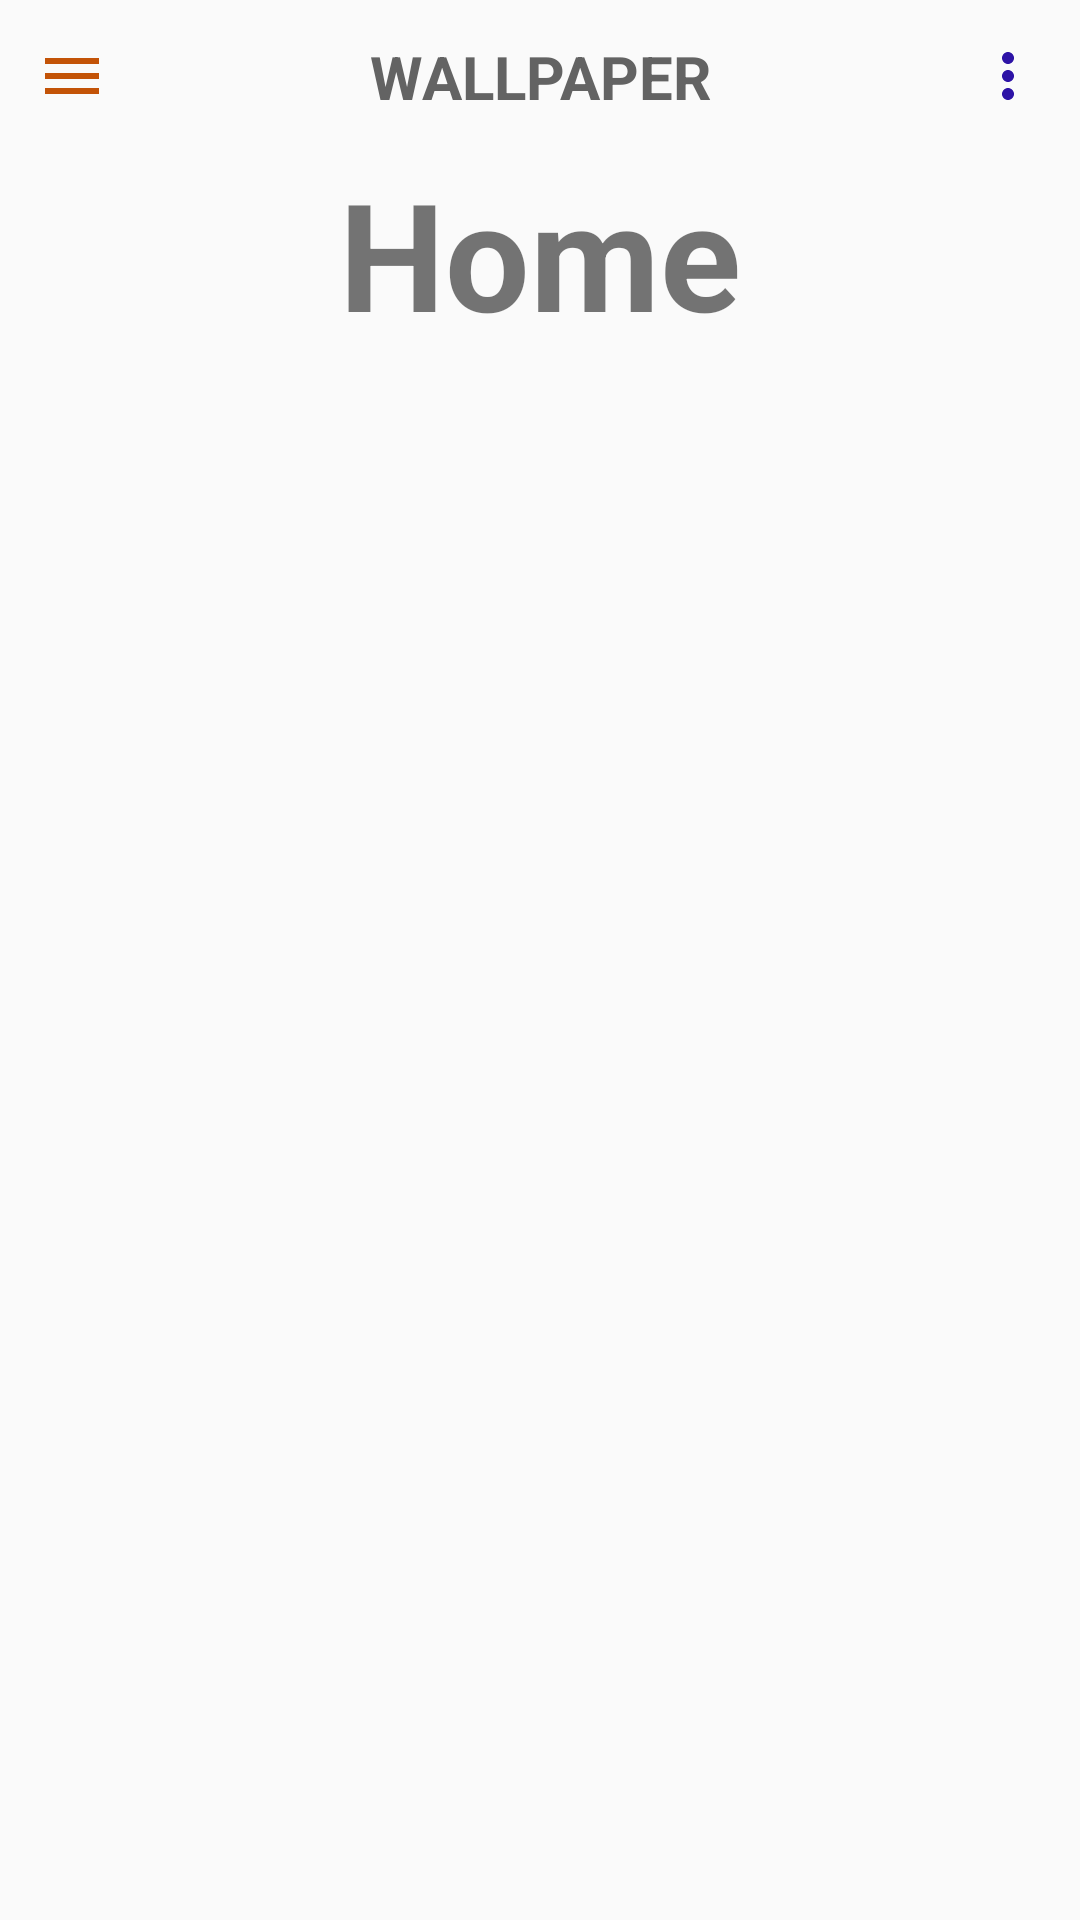

Locate icon controls on the screen. Image size 1080*1920, boxes as (x1, y1, x2, y2).
menu: (45, 58, 99, 94)
more: (1002, 52, 1014, 100)
